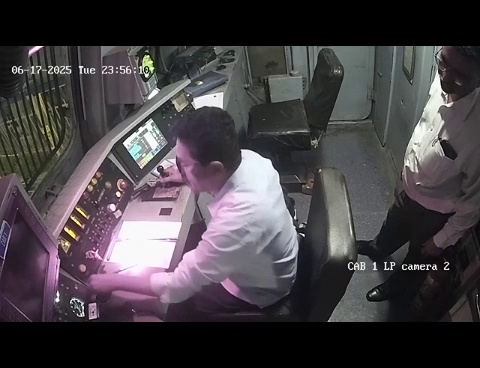horn_active: (76, 265, 131, 310)
